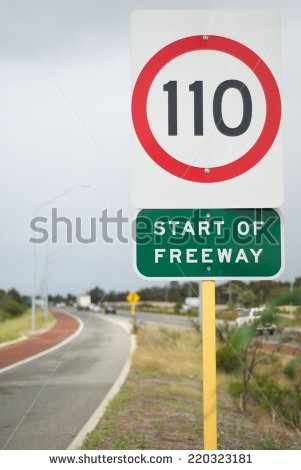Speed_limit_110km: (130, 34, 283, 183)
